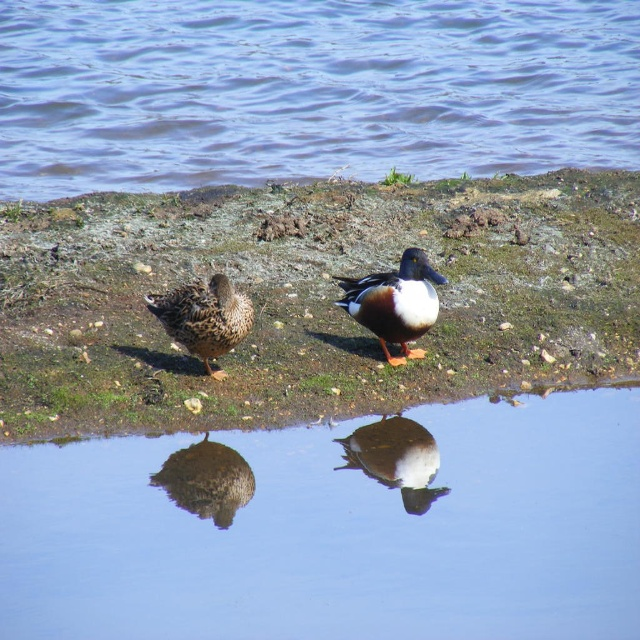Duck: (334, 250, 454, 369), (140, 274, 252, 376)
